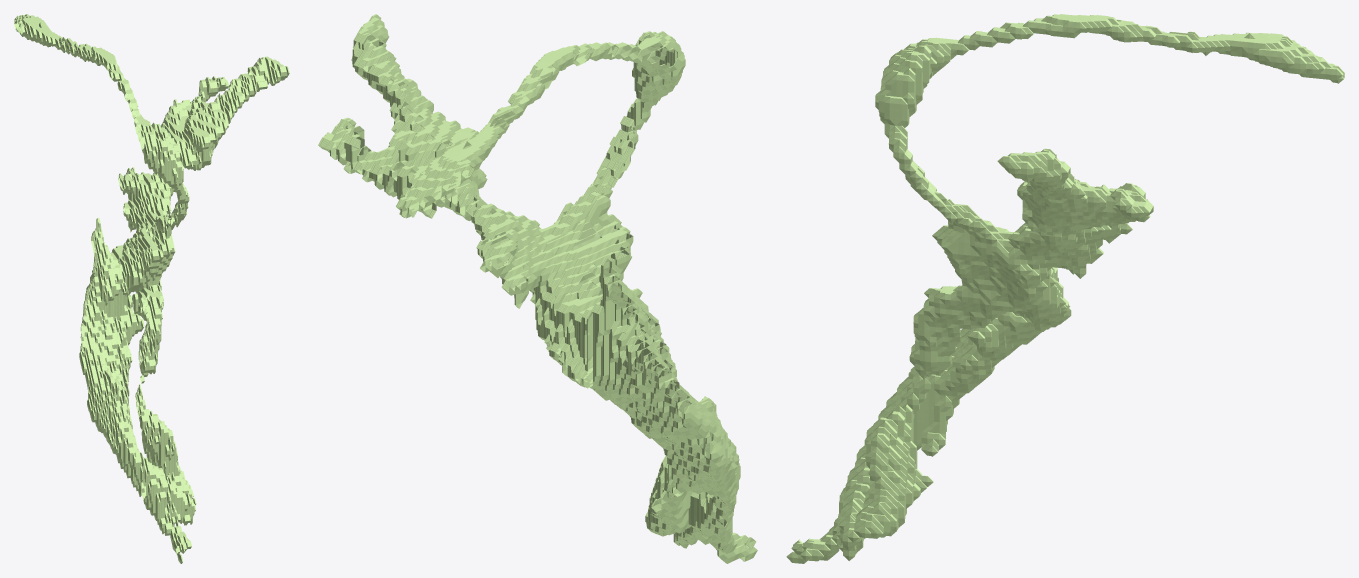
The model's file is SVV_URBL.gltf.
3 views of the same model, side by side, from view 1: azimuth 30°, elevation 25°; view 2: azimuth 150°, elevation 25°; view 3: azimuth 270°, elevation 25° (orthographic). The views are drawn at different scales.
Parts seen in each view (by area): view 1: URBL; view 2: URBL; view 3: URBL.
Boxes of the visible parts, <box> form: URBL: <box>14,14,289,563</box>; URBL: <box>318,14,757,563</box>; URBL: <box>786,14,1344,563</box>.
Bounding box in the file's own units: 38067 × 68594 × 61356.
